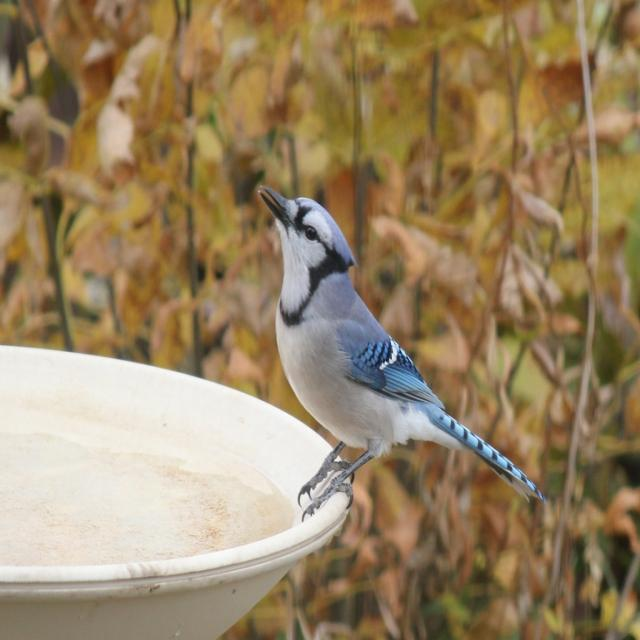bird: (257, 184, 551, 516)
